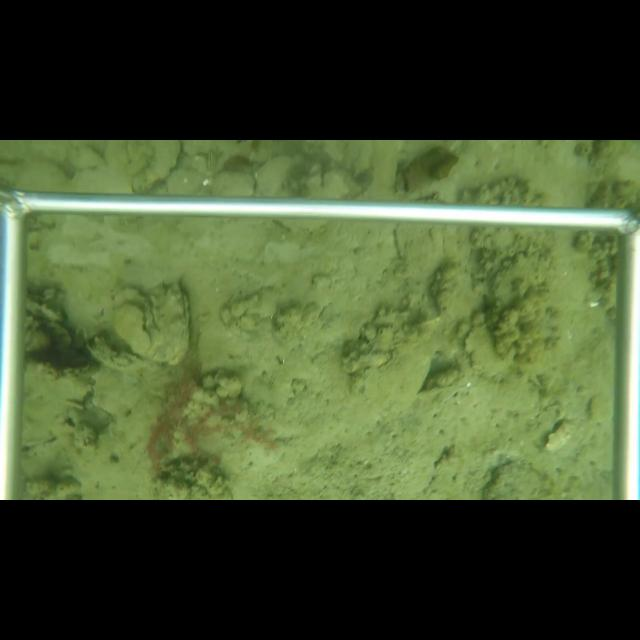Oyster-Closed: (112, 282, 191, 367), (462, 316, 518, 387), (486, 252, 545, 308), (125, 142, 184, 194), (481, 459, 547, 499), (254, 152, 301, 196), (541, 418, 582, 453), (209, 170, 257, 196), (165, 169, 214, 193), (44, 320, 74, 354)
Oyster-Open: (347, 342, 398, 394)
